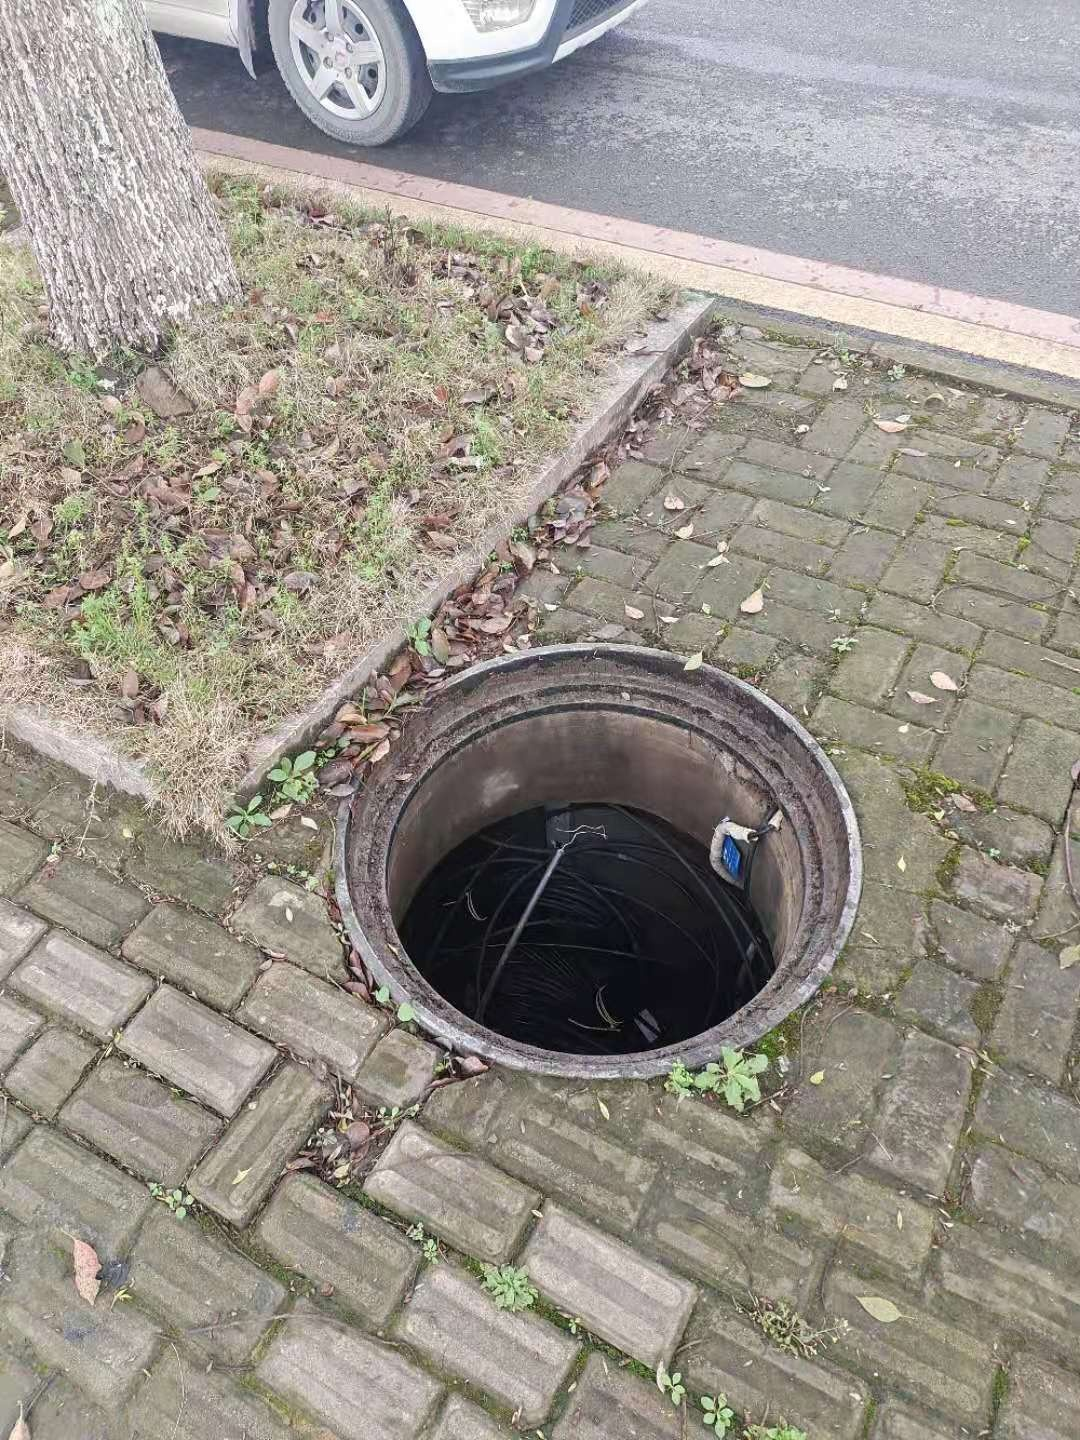lose: (329, 644, 859, 1079)
